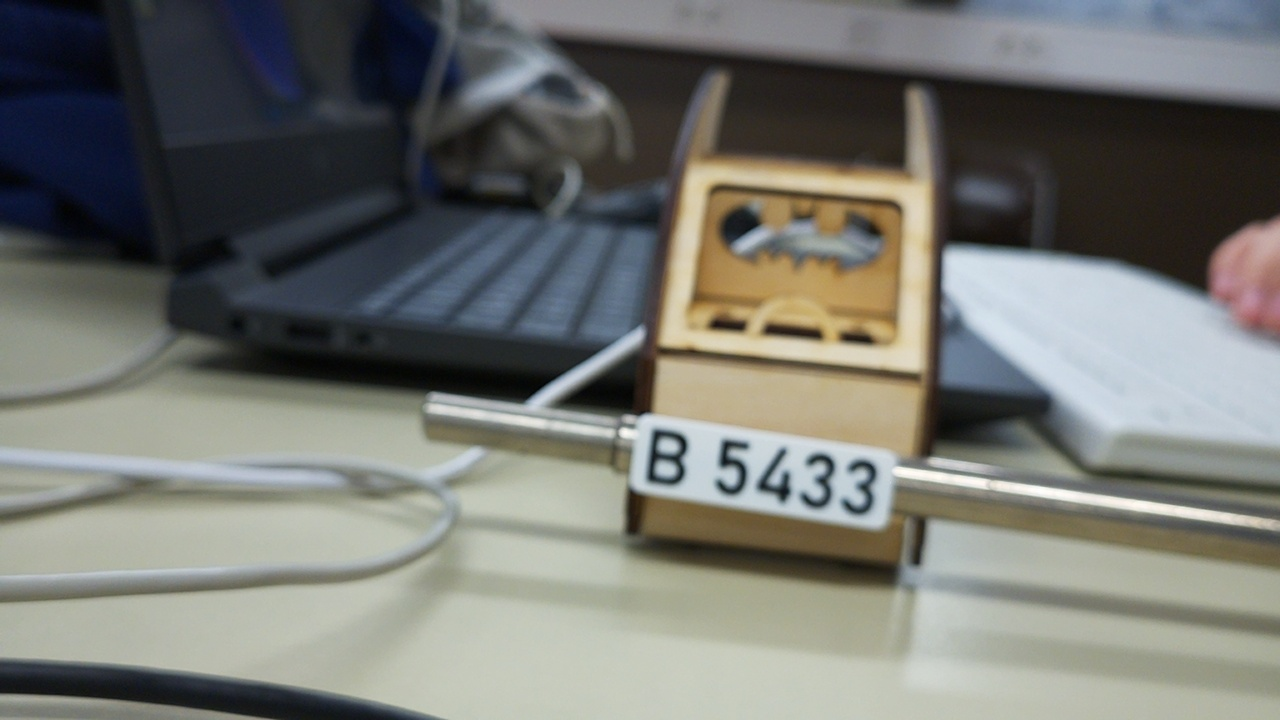license_plate: (626, 411, 900, 535)
